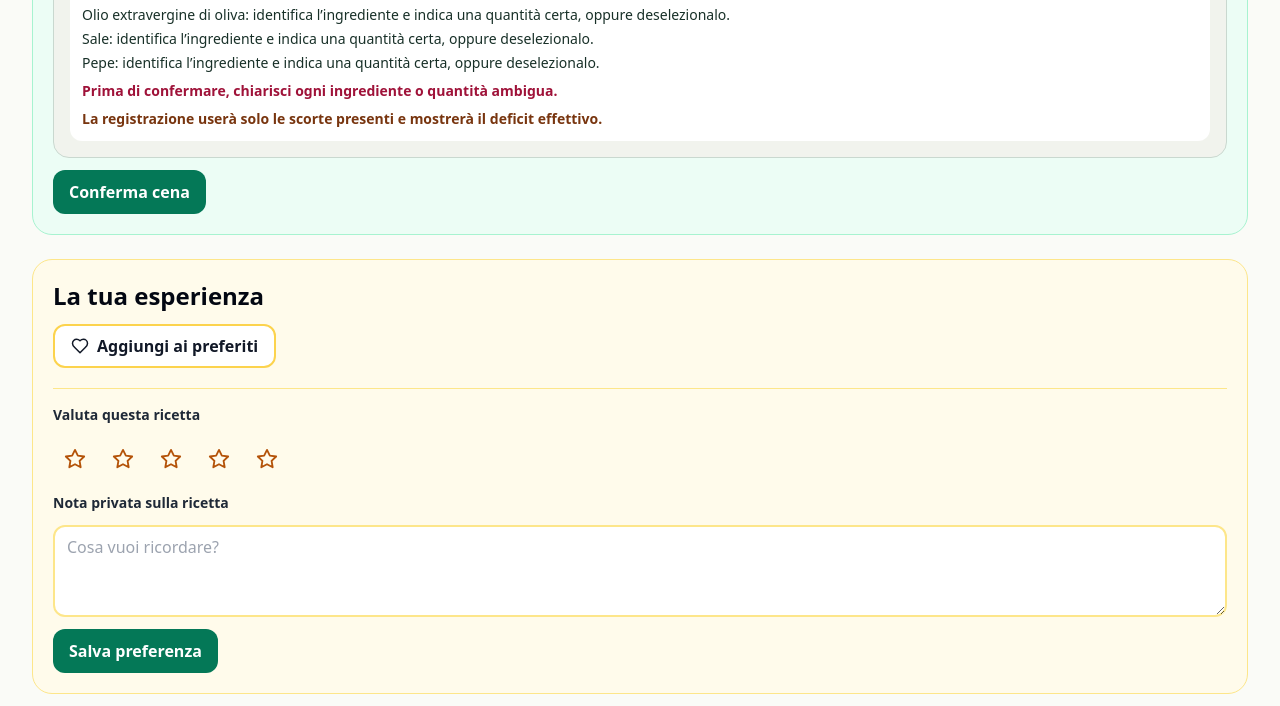
Test case: RecipeDetailPage integration › saves a favorite, rating and private note
(page scrolled)
Step 1. Click the button "Aggiungi ai preferiti" → (165, 346), box [53, 324, 276, 368]
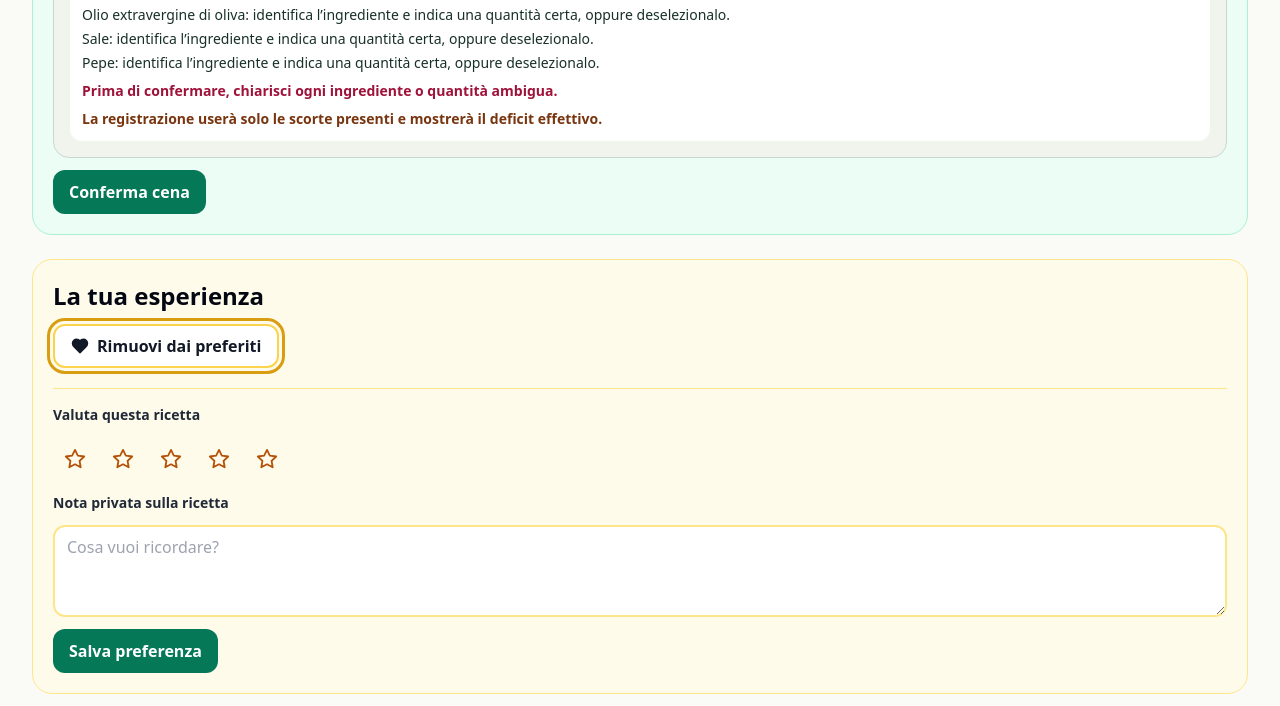
Step 2. Click the button named "Valuta Pollo al limone: 4 stelle" → (219, 459), box [197, 437, 241, 481]
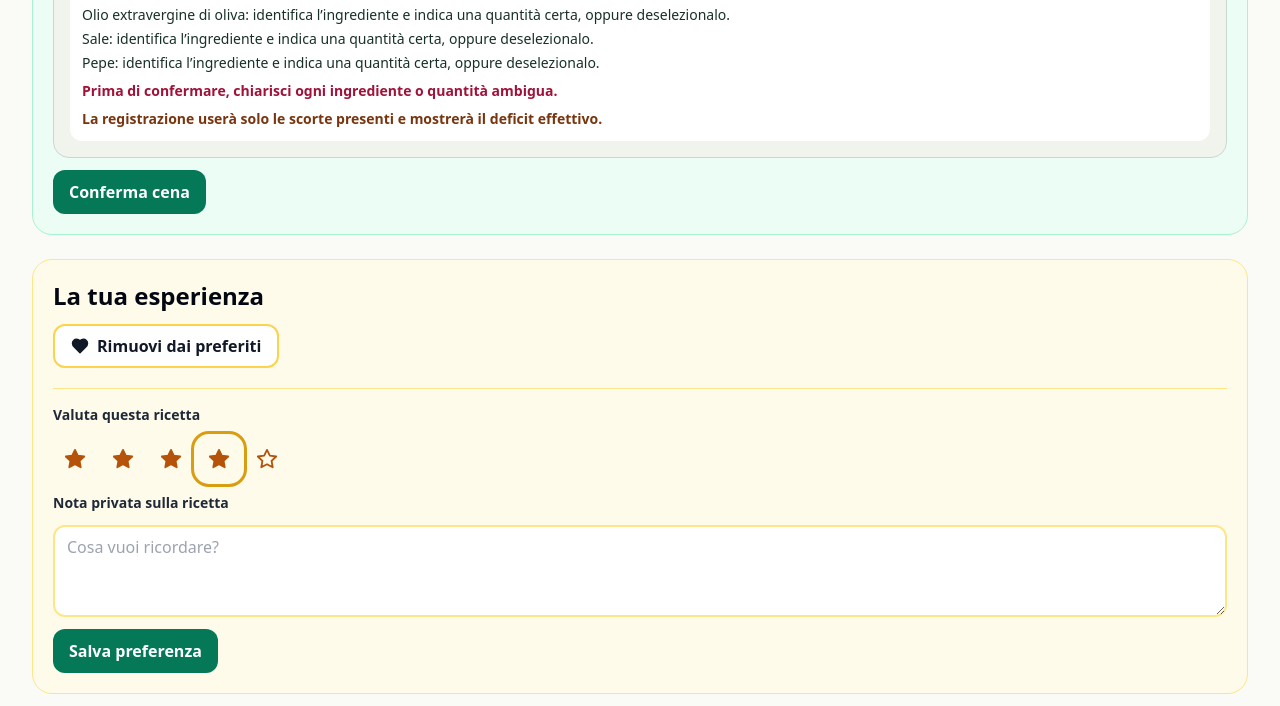
Step 3. Type "Da rifare nel weekend" into the text box labelled "Nota privata sulla ricetta" → (640, 571), box [53, 525, 1227, 617]
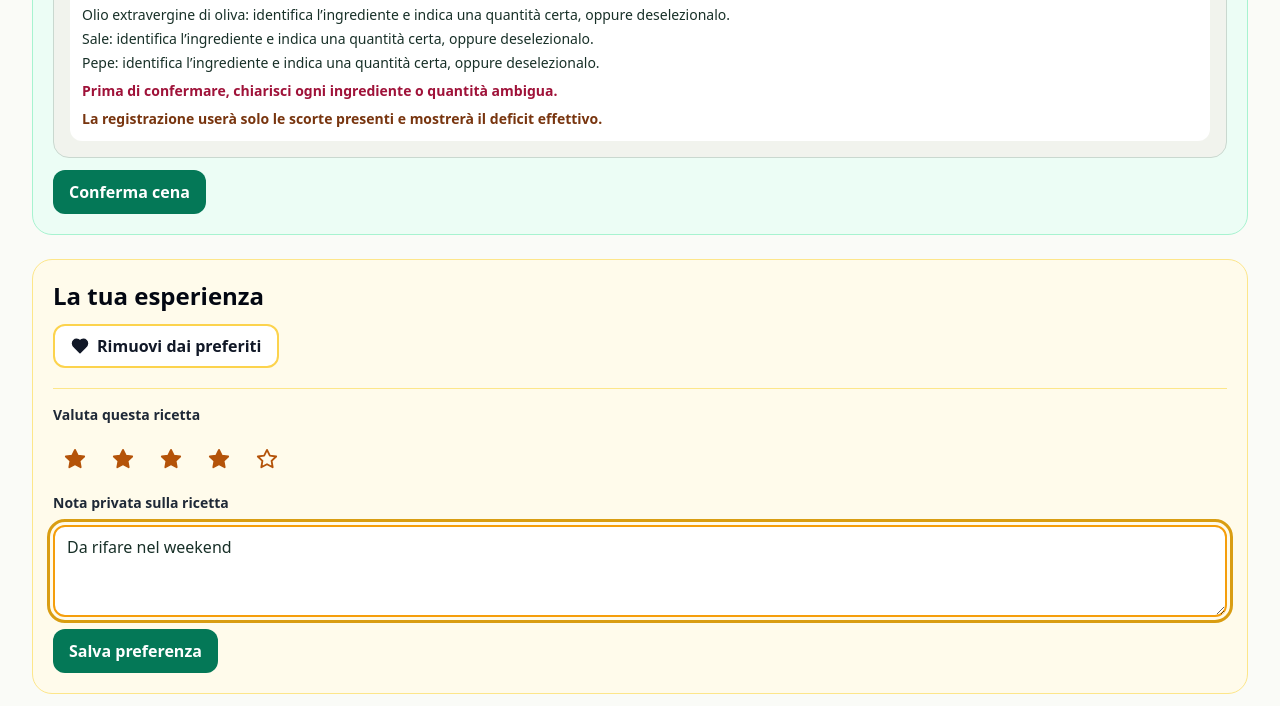
Step 4. Click the button "Salva preferenza" → (135, 651), box [53, 629, 218, 673]
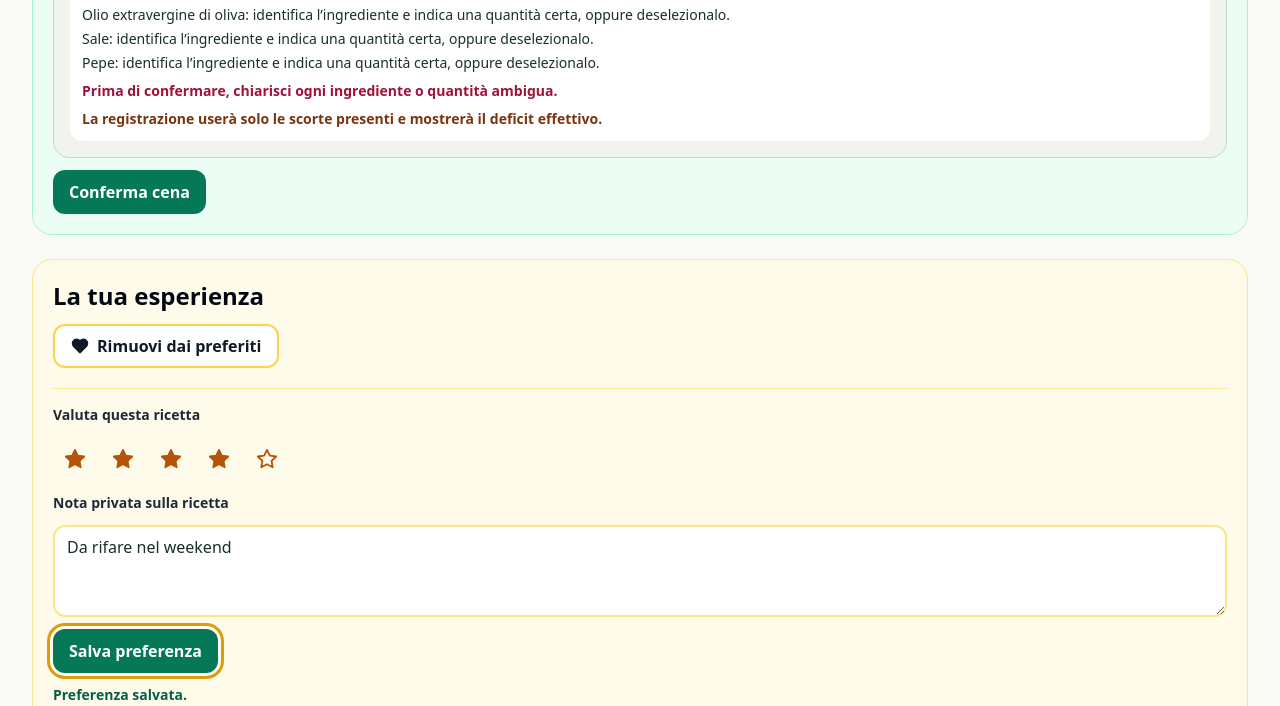
Now the message reads "Preferenza salvata.", box [53, 685, 187, 704]
